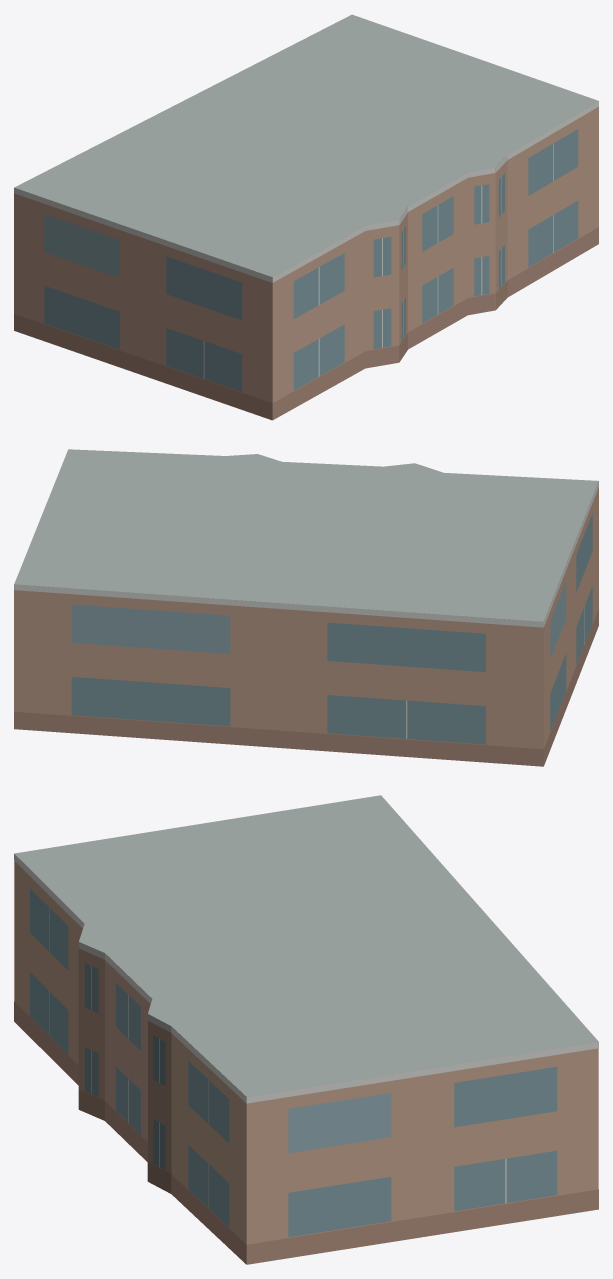
The model's file is survey-upis-32865928.glb.
3 renders of one model, top to bottom at view 1: azimuth 30°, elevation 25°; view 2: azimuth 150°, elevation 25°; view 3: azimuth 270°, elevation 25°, orthographic. The views are drawn at different scales.
Visible parts, largest first — view 1: survey-upis-32865928.tmp; view 2: survey-upis-32865928.tmp; view 3: survey-upis-32865928.tmp.
Part boxes in pixels (x1,y1,x2,y2): survey-upis-32865928.tmp: [14, 14, 598, 420]; survey-upis-32865928.tmp: [14, 449, 598, 766]; survey-upis-32865928.tmp: [14, 795, 598, 1264].
Size of the model in its own units: 23.53 by 6.1 by 19.27.
